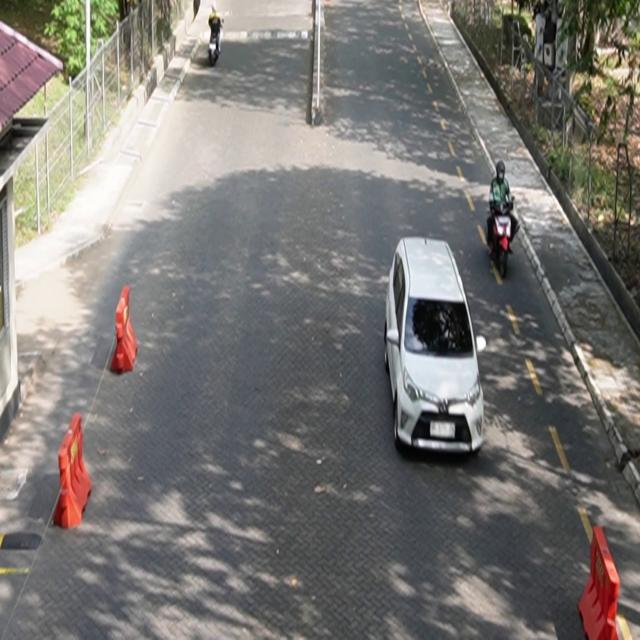car: (385, 236, 488, 456)
